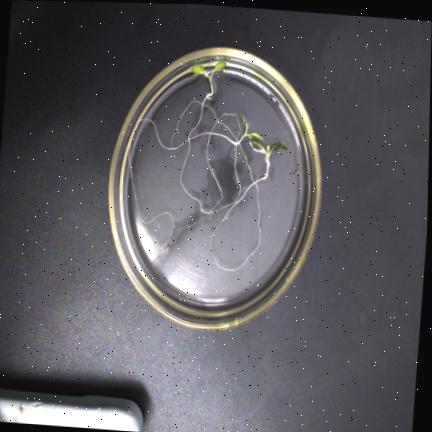leaf1: (249, 141, 265, 149)
leaf2: (271, 143, 288, 152)
leaf3: (248, 133, 262, 139)
leaf4: (241, 112, 247, 126)
leaf5: (215, 61, 226, 70)
leaf6: (192, 64, 206, 73)
leaf7: (265, 144, 269, 151)
root2: (128, 118, 231, 250)
root3: (170, 100, 254, 182), (209, 182, 260, 271), (179, 93, 209, 212), (206, 112, 240, 213), (175, 212, 209, 230)
stem1: (262, 151, 269, 179)
stem2: (231, 129, 248, 144)
stem3: (206, 71, 213, 96)
